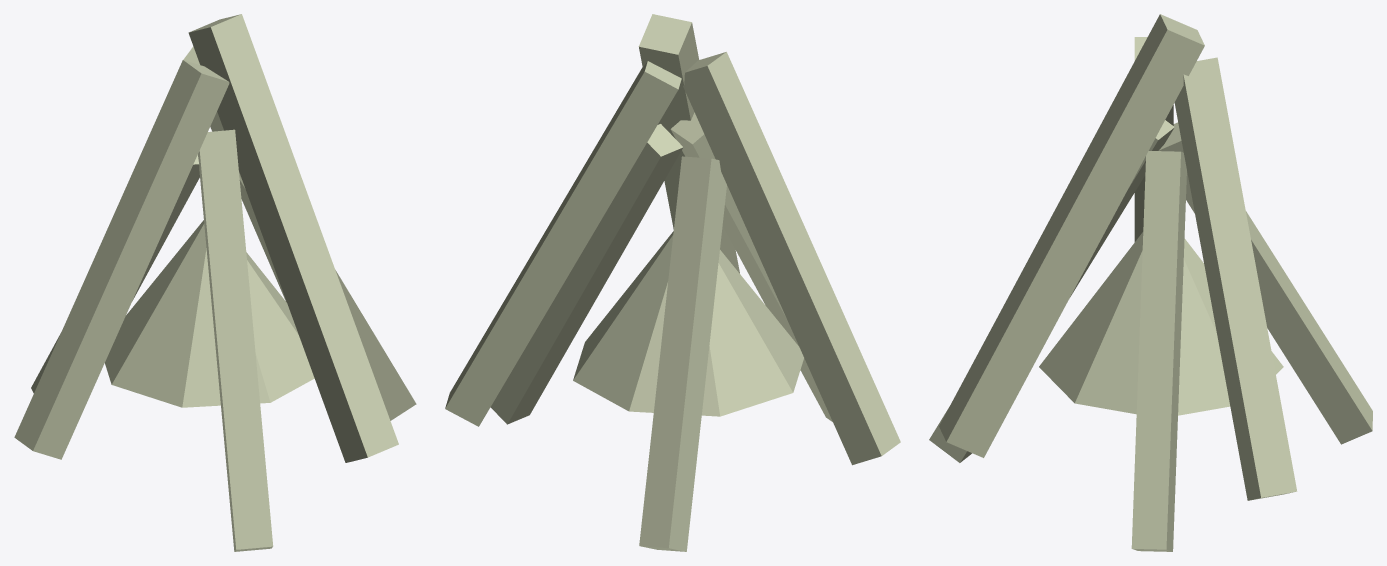
Rendered from mc_tfcr_firepit.obj.
3 views of the same model, side by side, from view 1: azimuth 30°, elevation 25°; view 2: azimuth 150°, elevation 25°; view 3: azimuth 270°, elevation 25° (orthographic). The views are drawn at different scales.
Parts seen in each view (by area): view 1: Fireplace 1; view 2: Fireplace 1; view 3: Fireplace 1.
Part boxes in pixels (box(x1,y1,x2,y2)): Fireplace 1: box(14, 14, 416, 551); Fireplace 1: box(445, 14, 900, 551); Fireplace 1: box(929, 14, 1372, 551).
Size of the model in its own units: 0.4808 by 0.5304 by 0.4531.
